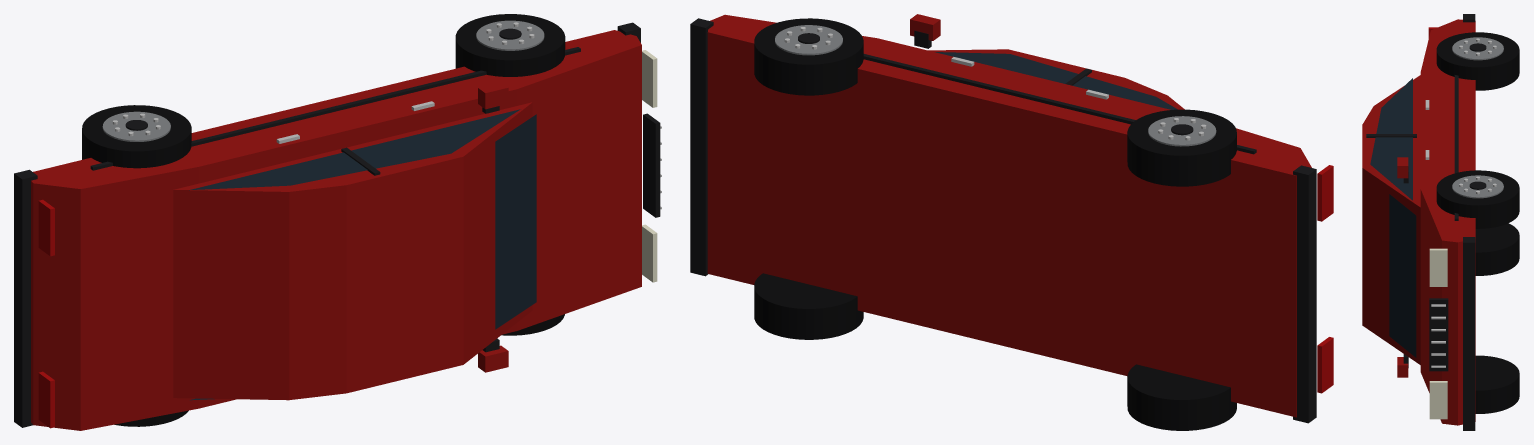
Rendered from car.obj.
3 views of the same model, side by side, from view 1: azimuth 30°, elevation 25°; view 2: azimuth 150°, elevation 25°; view 3: azimuth 270°, elevation 25° (orthographic). The views are drawn at different scales.
Visible parts, largest first — view 1: Body, Cabin, Tire, Windshield, Side_window, Rear_bumper, Wheel_hub, Body_trim, Front_grille, Rear_lamp, Headlamp, Mirror; view 2: Body, Tire, Rear_bumper, Front_bumper, Wheel_hub, Side_window, Body_trim, Rear_lamp, Cabin, Mirror; view 3: Body, Tire, Cabin, Windshield, Side_window, Front_bumper, Wheel_hub, Headlamp, Front_grille, Body_trim, Mirror, Grille_line (+3 smaller).
Part boxes in pixels (left/top/right/bottom): Body: left=31, top=30, right=641, bottom=430; Cabin: left=173, top=102, right=532, bottom=400; Tire: left=82, top=14, right=565, bottom=426; Windshield: left=495, top=114, right=536, bottom=329; Side_window: left=189, top=109, right=520, bottom=400; Rear_bumper: left=14, top=169, right=37, bottom=427; Wheel_hub: left=102, top=20, right=544, bottom=141; Body_trim: left=90, top=47, right=580, bottom=170; Front_grille: left=643, top=113, right=660, bottom=217; Rear_lamp: left=38, top=199, right=54, bottom=428; Headlamp: left=642, top=50, right=657, bottom=282; Mirror: left=478, top=82, right=508, bottom=372; Body: left=707, top=14, right=1311, bottom=417; Tire: left=754, top=18, right=1236, bottom=430; Rear_bumper: left=1293, top=165, right=1316, bottom=423; Front_bumper: left=690, top=18, right=713, bottom=276; Wheel_hub: left=775, top=25, right=1216, bottom=146; Side_window: left=935, top=52, right=1177, bottom=109; Body_trim: left=863, top=54, right=1256, bottom=154; Rear_lamp: left=1317, top=165, right=1333, bottom=393; Cabin: left=928, top=49, right=1184, bottom=109; Mirror: left=910, top=14, right=940, bottom=40; Body: left=1420, top=19, right=1475, bottom=425; Tire: left=1436, top=32, right=1519, bottom=413; Cabin: left=1362, top=75, right=1420, bottom=364; Windshield: left=1389, top=194, right=1416, bottom=357; Side_window: left=1370, top=78, right=1412, bottom=200; Front_bumper: left=1463, top=237, right=1475, bottom=430; Wheel_hub: left=1452, top=37, right=1503, bottom=198; Headlamp: left=1429, top=248, right=1447, bottom=419; Front_grille: left=1429, top=298, right=1448, bottom=371; Body_trim: left=1454, top=75, right=1458, bottom=220; Mirror: left=1397, top=157, right=1408, bottom=377; Grille_line: left=1431, top=304, right=1445, bottom=367.
Size of the model in its own units: 4.82 by 2.12 by 1.4.
